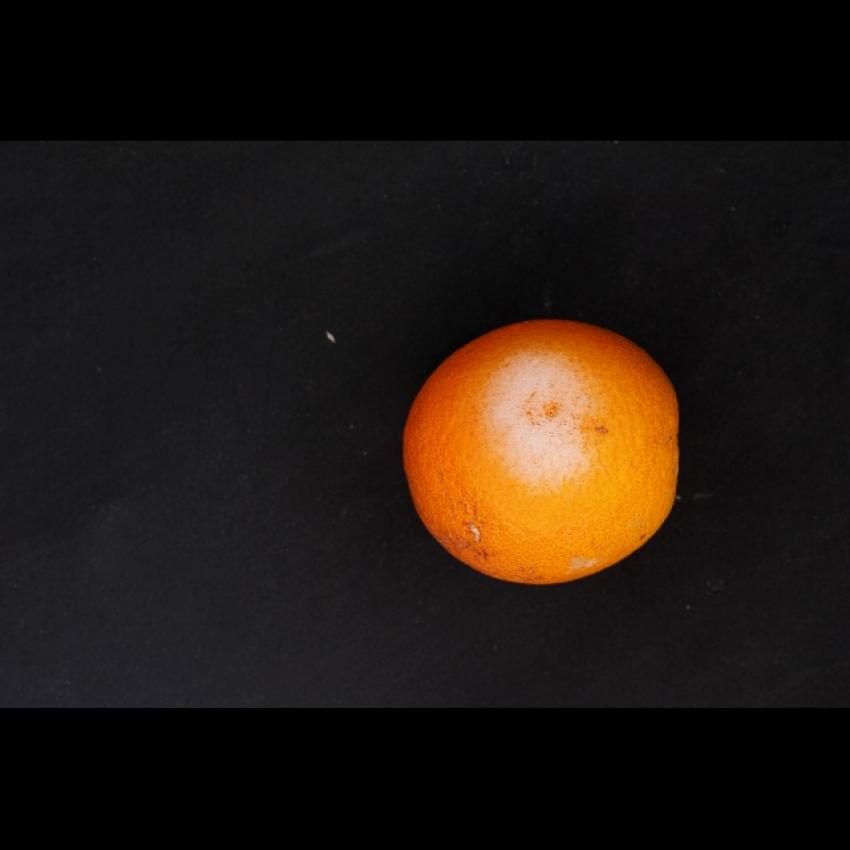Mal estado: (388, 307, 699, 599)
